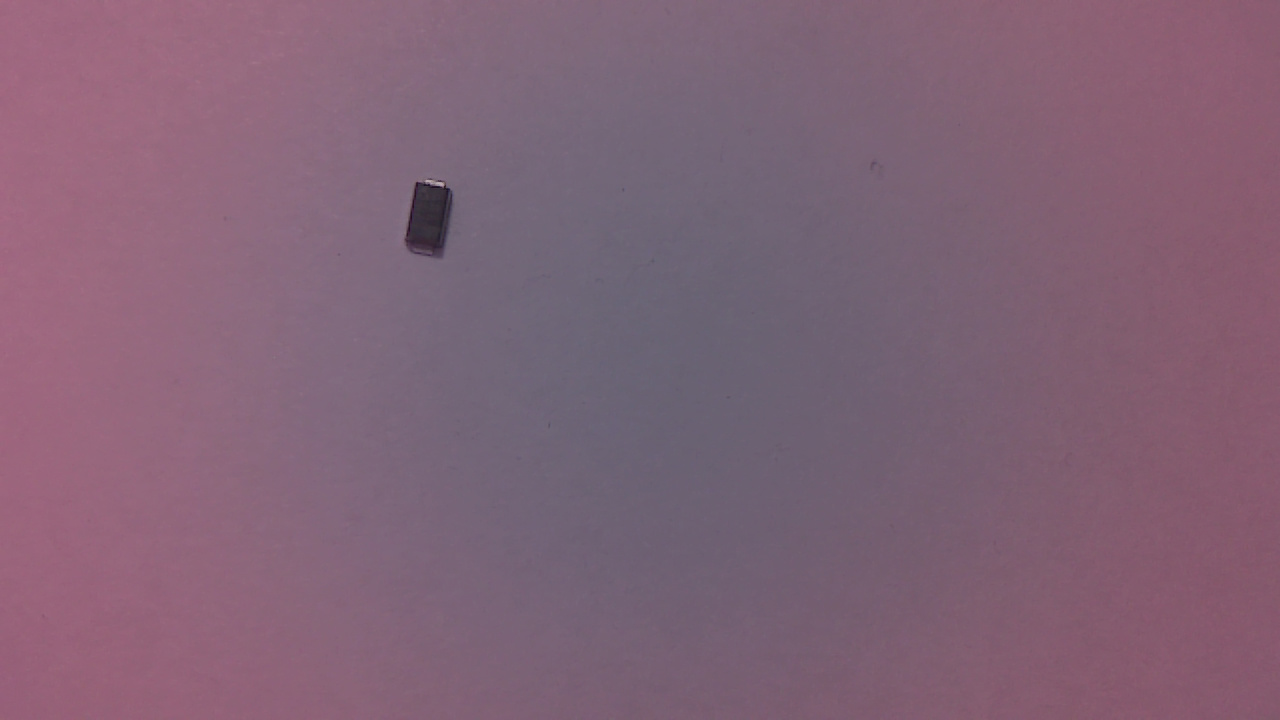Diode: (411, 180, 464, 261)
